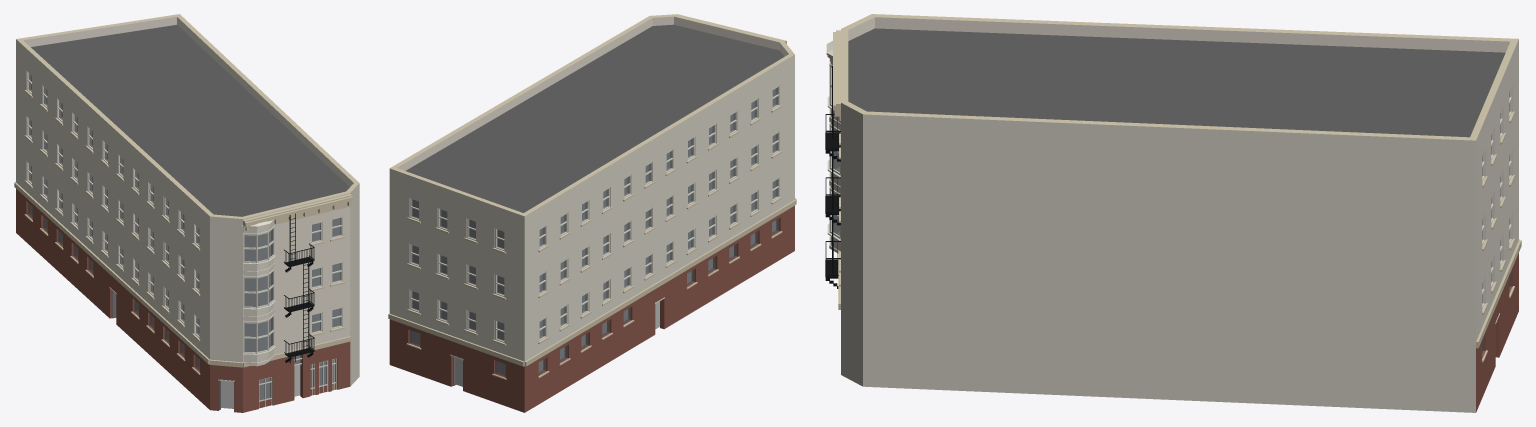
Rendered from exterior.glb.
3 views of the same model, side by side, from view 1: azimuth 30°, elevation 25°; view 2: azimuth 150°, elevation 25°; view 3: azimuth 270°, elevation 25° (orthographic). The views are drawn at different scales.
Visible parts, largest first — view 1: shell, roof, trim, glazing, shadow-proxy, bay-glazing-hyb, frames, fire-escape-ladder, bay-windows-hyb, storefront; view 2: shell, roof, glazing, trim, frames, shadow-proxy; view 3: shell, roof, trim, fire-escape-ladder, frames, bay-glazing-hyb, bay-windows-hyb.
Part boxes in pixels (x1,y1,x2,y2): shell: [16, 14, 359, 412]; roof: [31, 24, 349, 216]; trim: [14, 90, 352, 374]; glazing: [27, 73, 340, 400]; shadow-proxy: [31, 76, 339, 408]; bay-glazing-hyb: [243, 226, 275, 355]; frames: [27, 71, 342, 337]; fire-escape-ladder: [284, 213, 314, 363]; bay-windows-hyb: [241, 220, 274, 366]; storefront: [109, 287, 336, 409]; shell: [389, 14, 794, 412]; roof: [406, 24, 784, 212]; glazing: [409, 87, 778, 376]; trim: [388, 14, 796, 379]; frames: [409, 86, 779, 342]; shadow-proxy: [412, 89, 775, 386]; shell: [841, 14, 1518, 412]; roof: [848, 28, 1505, 137]; trim: [833, 30, 1521, 362]; fire-escape-ladder: [825, 65, 840, 288]; frames: [1482, 86, 1511, 308]; bay-glazing-hyb: [827, 58, 840, 240]; bay-windows-hyb: [826, 41, 840, 253].
Size of the model in its own units: 14.13 by 14.03 by 32.5.
